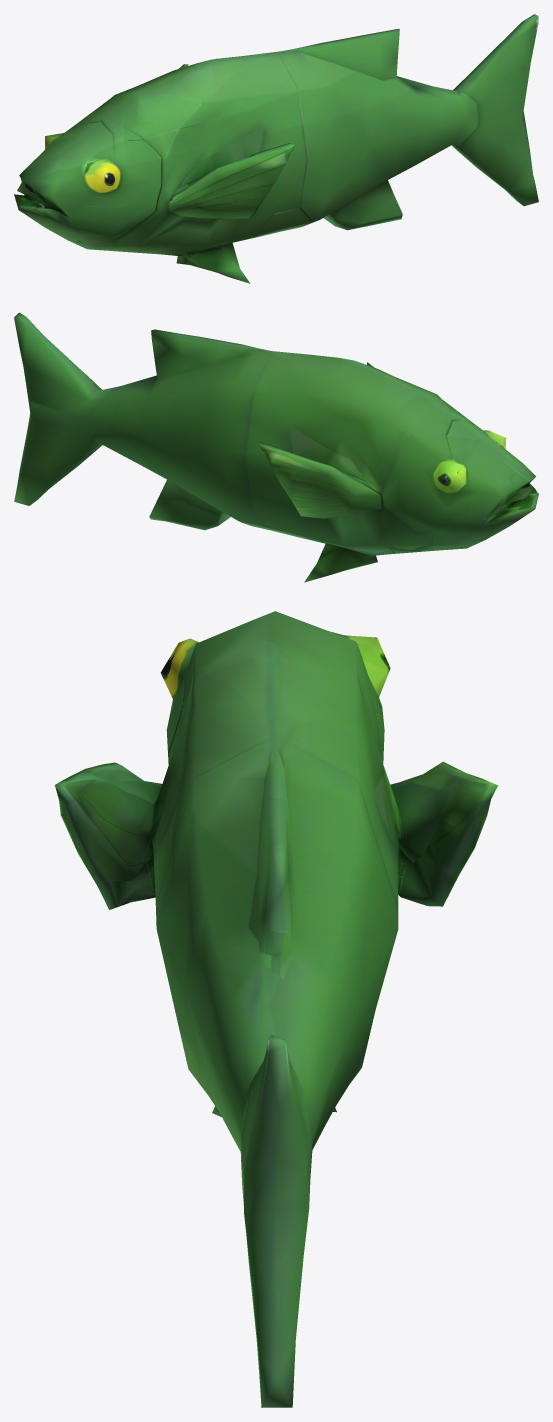
The model's file is fish.obj.
The picture shows the model from 3 angles, top to bottom: view 1: azimuth 30°, elevation 25°; view 2: azimuth 150°, elevation 25°; view 3: azimuth 270°, elevation 25°; orthographic projection. The views are drawn at different scales.
Parts seen in each view (by area): view 1: model; view 2: model; view 3: model.
Part boxes in pixels (bbox=[...]): model: bbox=[14, 14, 538, 283]; model: bbox=[14, 312, 538, 582]; model: bbox=[55, 611, 497, 1407].
Size of the model in its own units: 2 by 0.8136 by 0.7393.
